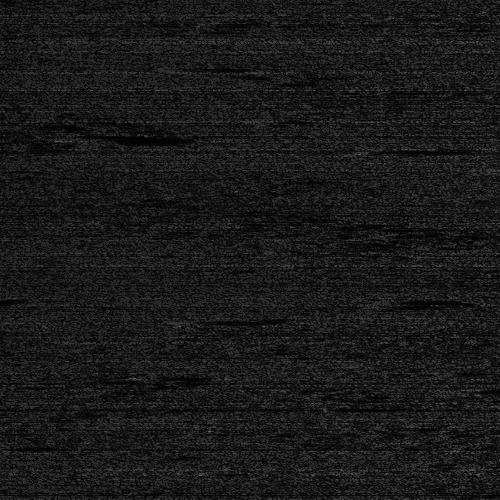rock: (56, 130, 119, 141), (143, 315, 216, 322), (370, 295, 423, 302)
shadow: (88, 130, 181, 141), (180, 315, 282, 322), (397, 295, 480, 302), (0, 293, 61, 302)
